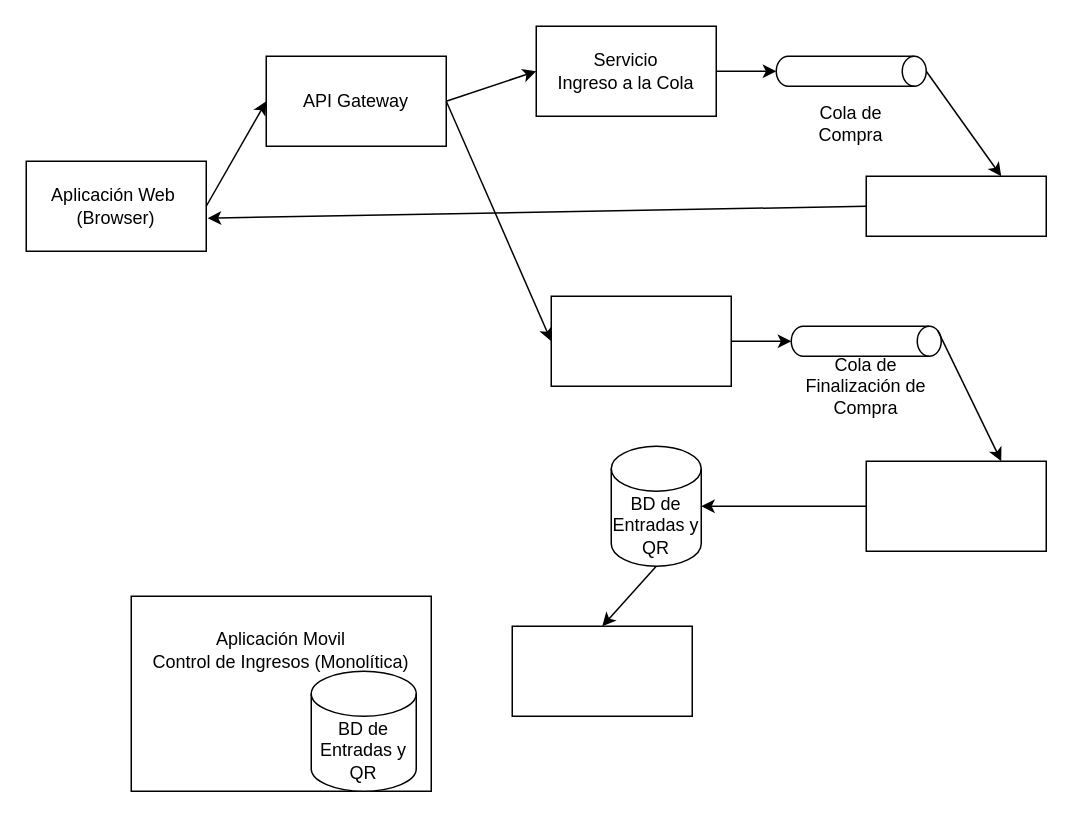
Image size: 1073x818. Some labels were removed from this diagram. The centre of each missing label's shape, as x and y in pixels:
Servicio de Compresión de datos: [601,670]
Servicio de Notificación: [955,205]
Servicio Generación QR y Envio por Mail: [955,505]
Servicio Venta de Ingresos: [640,340]
